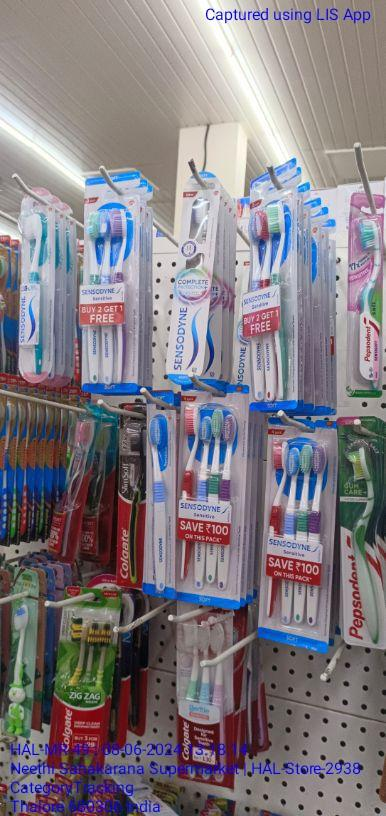13: (345, 192, 384, 399)
14: (260, 415, 335, 653), (179, 392, 244, 609)
15: (81, 174, 140, 394), (249, 171, 298, 410)
soap: (114, 403, 146, 588)
